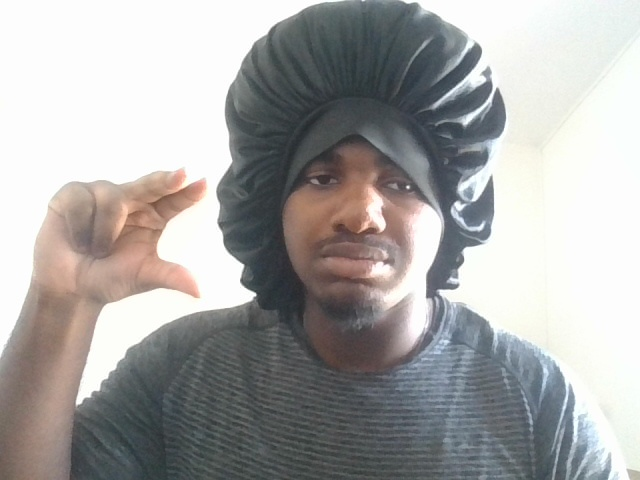No: (21, 137, 219, 312)
